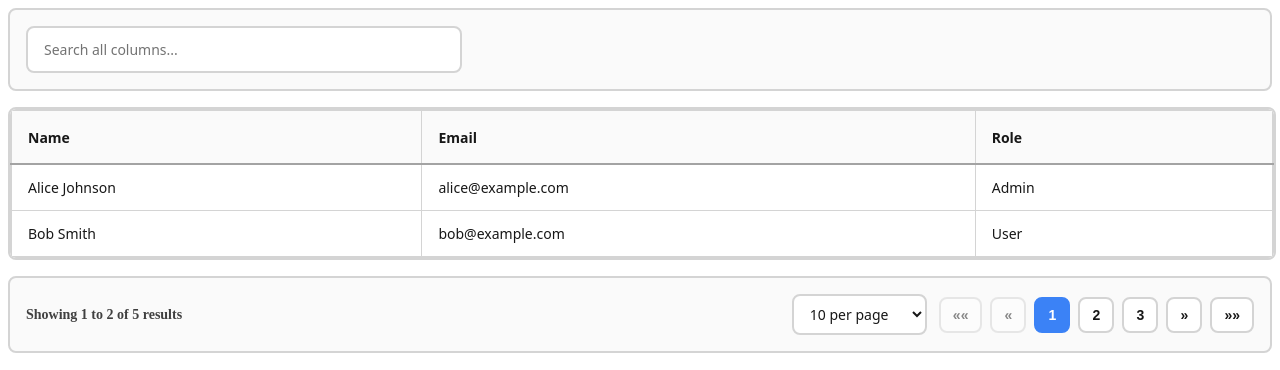
Test: DataTable › Pagination › navigates to next page
Click the button named "Next page" at (1184, 314), box [1166, 296, 1202, 332]
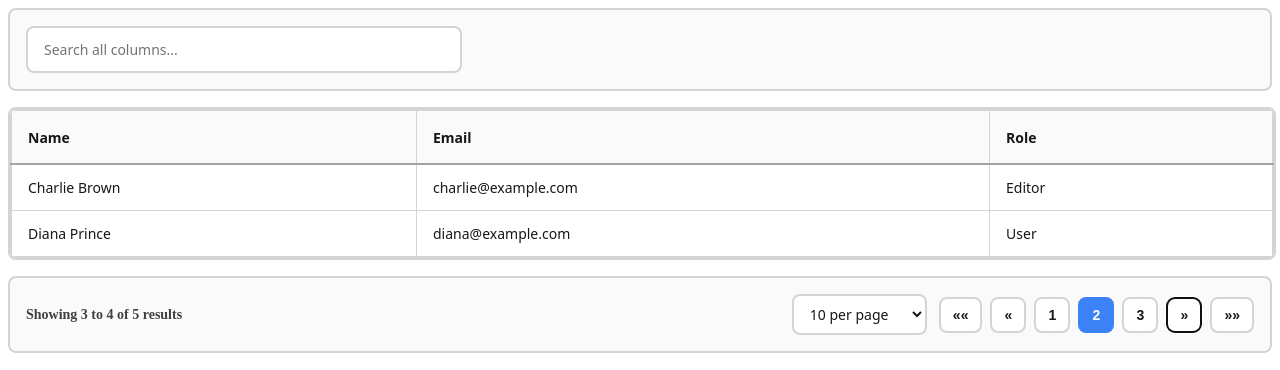
Expected: the text "Charlie Brown" is shown, [11, 164, 416, 210]
Expected: the text "Alice Johnson" is gone
